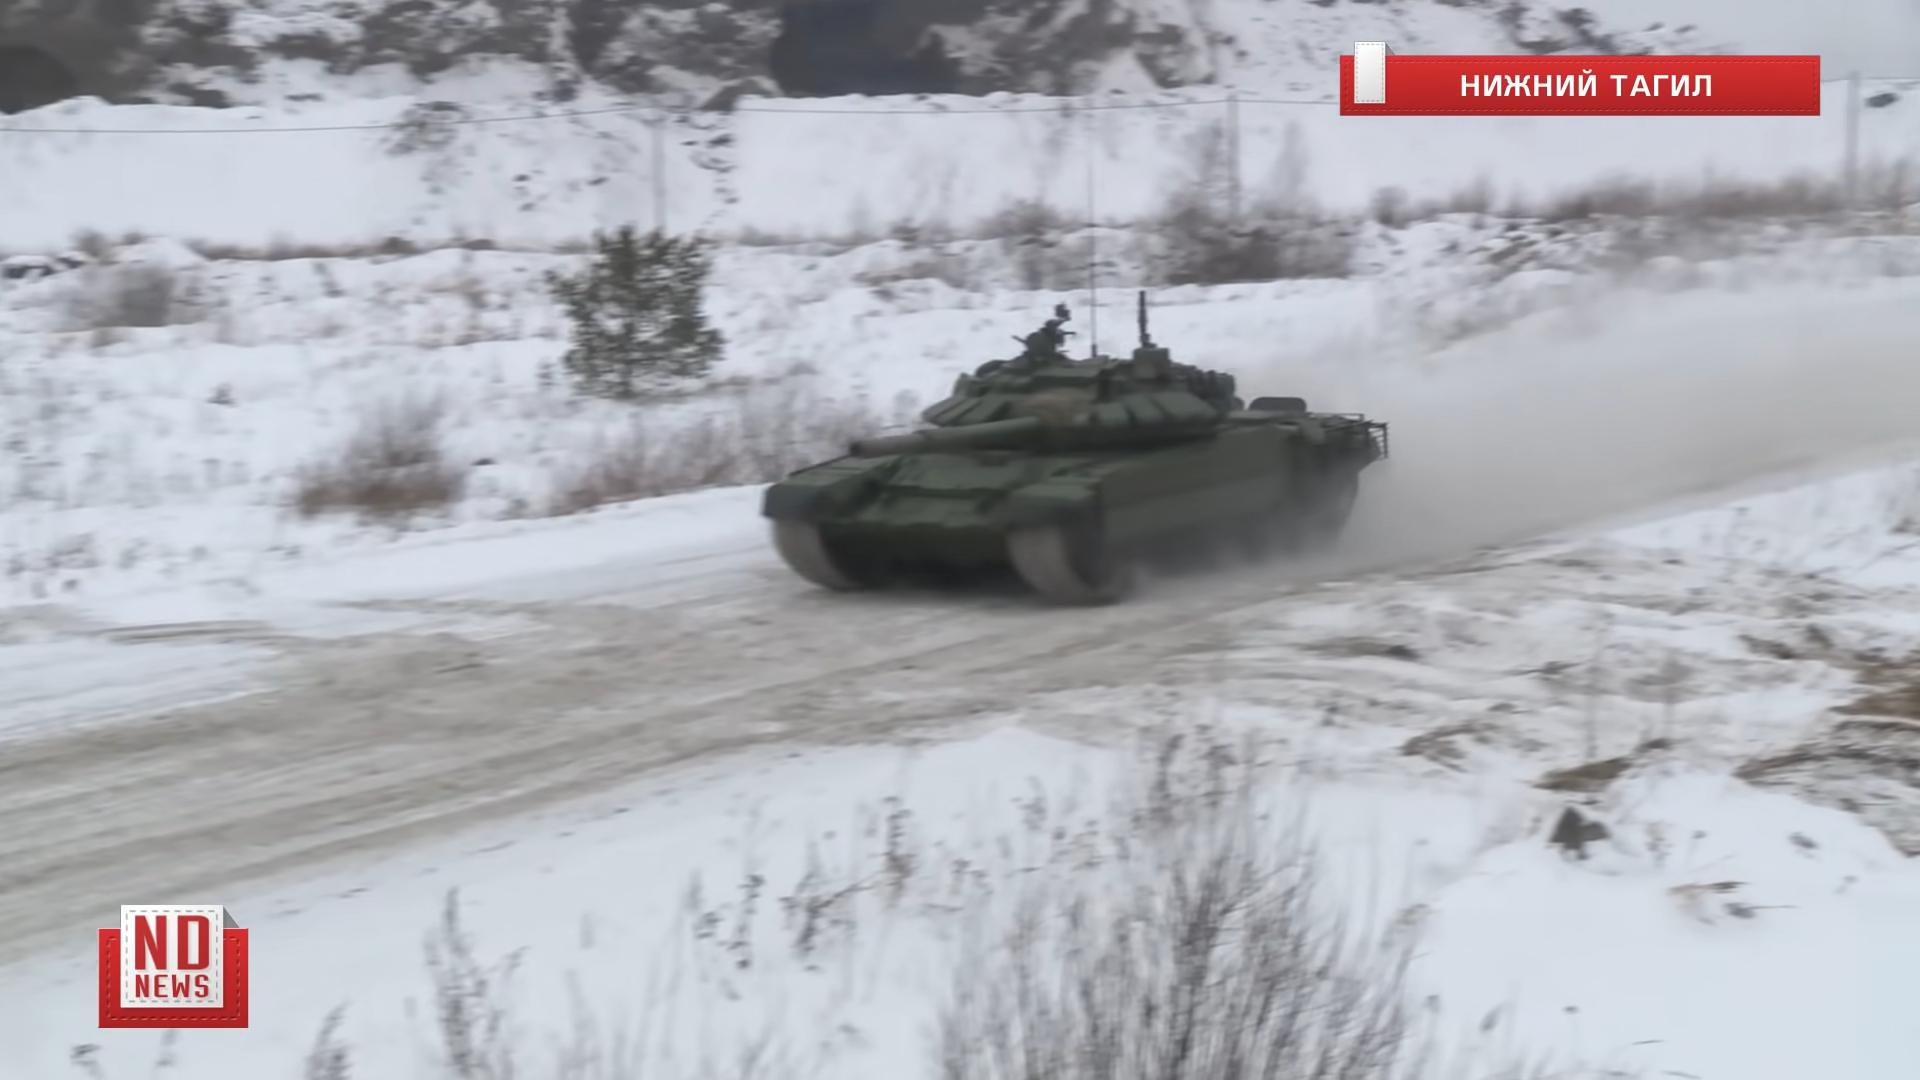tank: (762, 347, 1394, 600)
